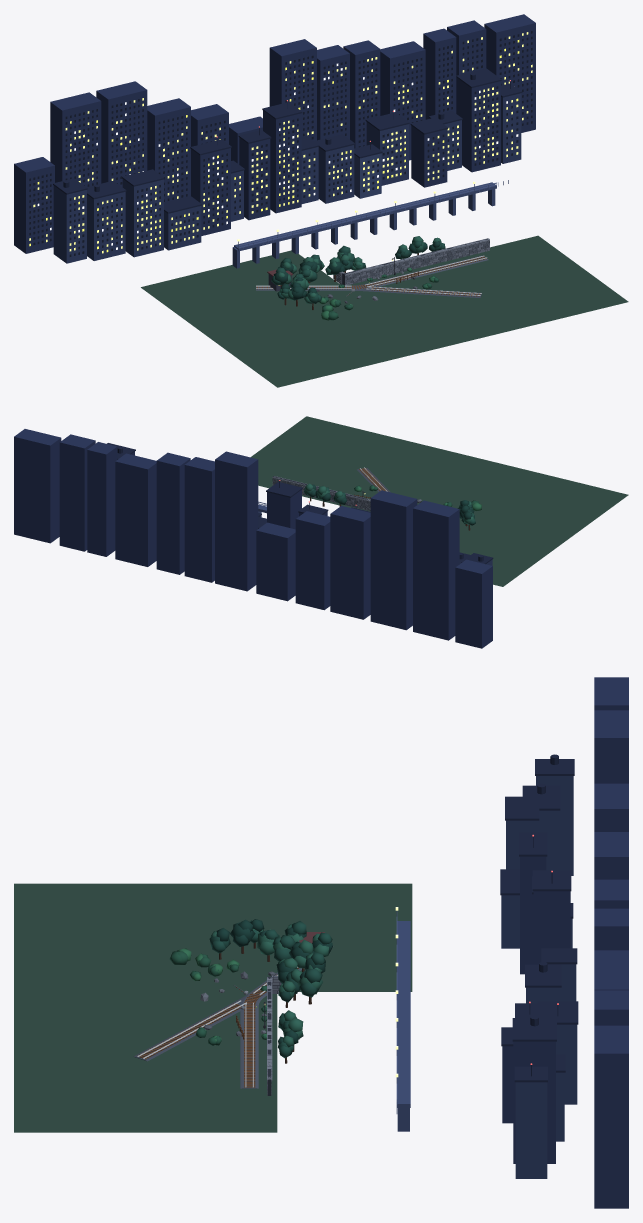
Rendered from env.glb.
3 views of the same model, one above another, from view 1: azimuth 30°, elevation 25°; view 2: azimuth 150°, elevation 25°; view 3: azimuth 270°, elevation 25° (orthographic). The views are drawn at different scales.
Parts seen in each view (by area): view 1: far_city, ground, far_bridge, trees, wall, tracks, sleepers, bushes; view 2: far_city, ground, trees, wall; view 3: ground, far_city, trees, far_bridge, tracks, sleepers, bushes, wall.
Part boxes in pixels (x1=…): far_city: x1=14, y1=14, x2=535, y2=263; ground: x1=141, y1=235, x2=628, y2=387; far_bridge: x1=232, y1=180, x2=508, y2=268; trees: x1=271, y1=236, x2=445, y2=309; wall: x1=333, y1=238, x2=489, y2=285; tracks: x1=256, y1=255, x2=488, y2=297; sleepers: x1=256, y1=256, x2=486, y2=296; bushes: x1=319, y1=267, x2=439, y2=320; far_city: x1=14, y1=429, x2=493, y2=648; ground: x1=250, y1=416, x2=628, y2=586; trees: x1=303, y1=483, x2=475, y2=530; wall: x1=272, y1=476, x2=370, y2=510; ground: x1=14, y1=883, x2=412, y2=1132; far_city: x1=500, y1=677, x2=628, y2=1208; trees: x1=209, y1=919, x2=332, y2=1063; far_bridge: x1=395, y1=907, x2=410, y2=1131; tracks: x1=133, y1=946, x2=333, y2=1088; sleepers: x1=137, y1=967, x2=299, y2=1087; bushes: x1=169, y1=948, x2=266, y2=1045; wall: x1=267, y1=975, x2=297, y2=1095.
Bounding box in the file's own units: 98.7 × 25.38 × 71.
